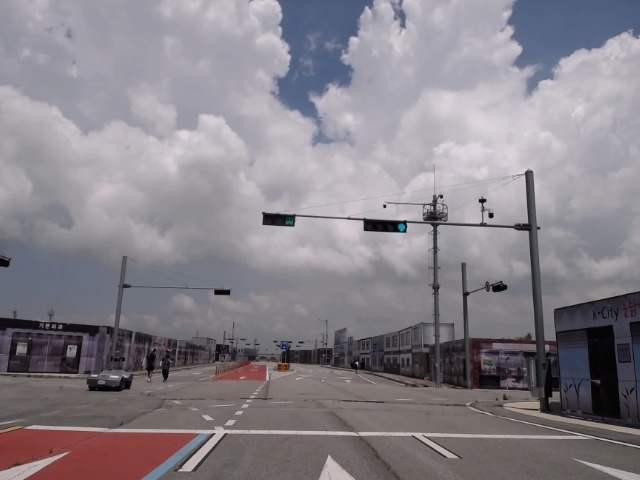straight_green_4: (364, 219, 409, 234)
